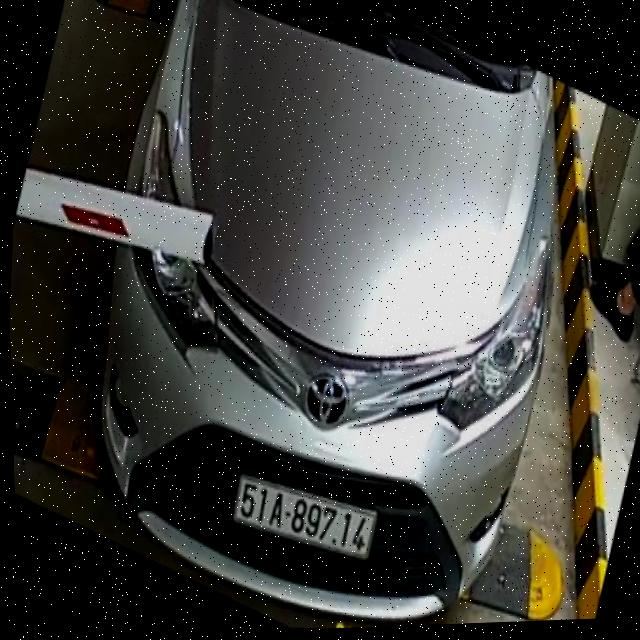car: (68, 0, 587, 637)
plate: (227, 465, 384, 568)
